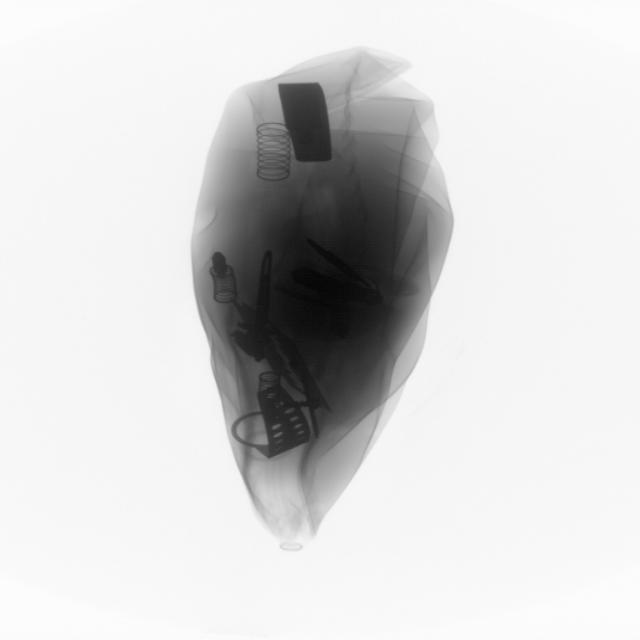BLADE: (250, 364, 330, 467)
